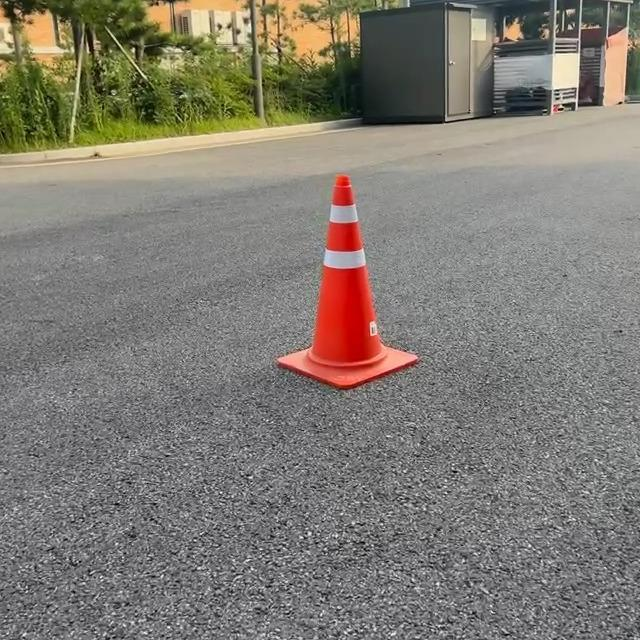fallen_object: (289, 167, 418, 371)
